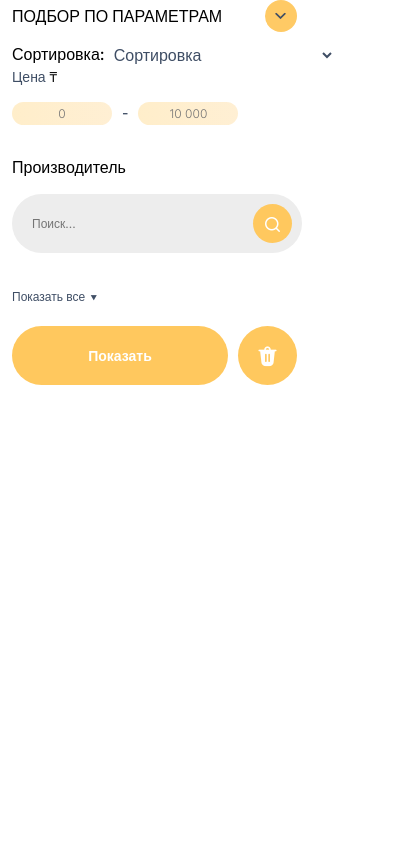
Scenario: test events › click event
This screenshot has width=402, height=844.
Click the icon with test id "toggle-btn".
click(281, 16)  # box [265, 0, 297, 32]
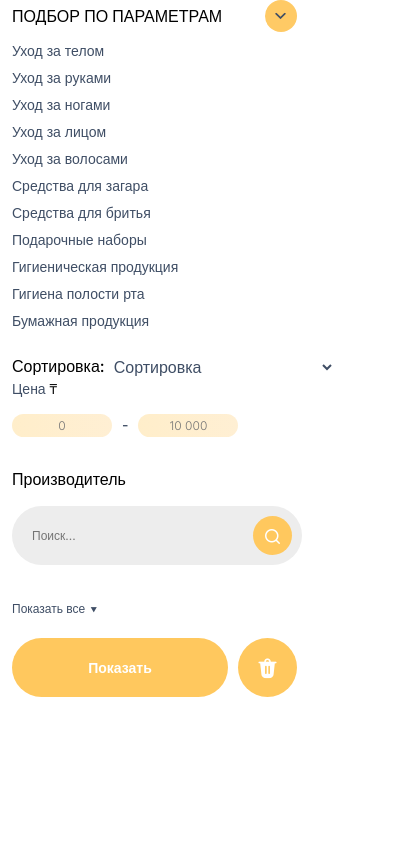
Result: the element with test id "toggle-elem" is shown at [12, 42, 178, 329]
